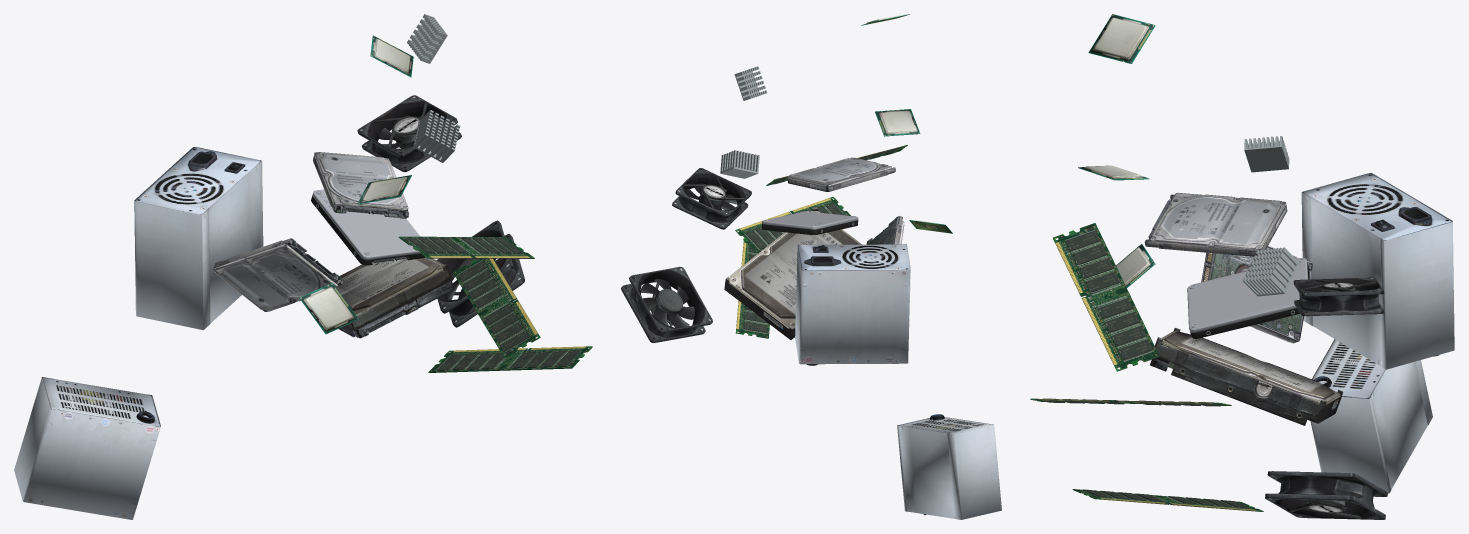
Rendered from computer_components.glb.
3 renders of one model, left to right at view 1: azimuth 30°, elevation 25°; view 2: azimuth 150°, elevation 25°; view 3: azimuth 270°, elevation 25°, orthographic. The views are drawn at different scales.
Visible parts, largest first — view 1: PSU (×2), PSU.001 (×2), 2.5inch_HDD.005, RAM.002, 3.5inch_HDD.004, 2.5inch_SSD, FAN.004 (×3), RAM, 2.5inch_HDD.003, RAM.001, FAN.000 (×2), CPU (+6 smaller); view 2: PSU (×2), PSU.001 (×2), 3.5inch_HDD.004, FAN.000 (×2), FAN.004 (×3), 2.5inch_SSD (×2), FAN.001, 2.5inch_HDD.003, RAM.002, RAM, CPU.001, HeatSink (+3 smaller); view 3: PSU (×2), PSU.001 (×2), RAM.001, 2.5inch_HDD.003, 2.5inch_SSD (×2), FAN.000 (×3), 3.5inch_HDD.003, 3.5inch_HDD.004, FAN.004 (×2), CPU.002, HeatSink, 2.5inch_HDD.004 (+6 smaller).
Part boxes in pixels (box(x1,y1,x2,y2)): PSU (×2): box(134, 147, 263, 330); PSU.001 (×2): box(14, 377, 160, 519); 2.5inch_HDD.005: box(213, 246, 337, 311); RAM.002: box(453, 258, 540, 358); 3.5inch_HDD.004: box(336, 257, 443, 314); 2.5inch_SSD: box(312, 189, 420, 259); FAN.004 (×3): box(357, 95, 461, 172); RAM: box(428, 346, 592, 372); 2.5inch_HDD.003: box(314, 152, 408, 208); RAM.001: box(398, 236, 534, 258); FAN.000 (×2): box(436, 220, 524, 327); CPU: box(299, 283, 358, 334); PSU (×2): box(795, 244, 910, 364); PSU.001 (×2): box(897, 417, 1001, 519); 3.5inch_HDD.004: box(729, 211, 861, 327); FAN.000 (×2): box(621, 266, 712, 342); FAN.004 (×3): box(672, 168, 751, 229); 2.5inch_SSD (×2): box(762, 211, 858, 234); FAN.001: box(640, 279, 694, 327); 2.5inch_HDD.003: box(787, 157, 891, 185); RAM.002: box(735, 196, 850, 252); RAM: box(735, 240, 769, 338); CPU.001: box(875, 109, 920, 136); HeatSink: box(720, 150, 759, 178); PSU (×2): box(1301, 173, 1454, 369); PSU.001 (×2): box(1310, 339, 1432, 493); RAM.001: box(1053, 223, 1159, 371); 2.5inch_HDD.003: box(1150, 193, 1285, 249); 2.5inch_SSD (×2): box(1187, 258, 1309, 338); FAN.000 (×3): box(1265, 471, 1387, 519); 3.5inch_HDD.003: box(1155, 328, 1342, 425); 3.5inch_HDD.004: box(1161, 331, 1340, 402); FAN.004 (×2): box(1293, 277, 1384, 316); CPU.002: box(1088, 14, 1155, 63); HeatSink: box(1243, 247, 1299, 296); 2.5inch_HDD.004: box(1210, 245, 1312, 341).
Bounding box in the file's own units: 16.34 × 16.28 × 11.39.
Materials: 25 (22 with a texture image).
